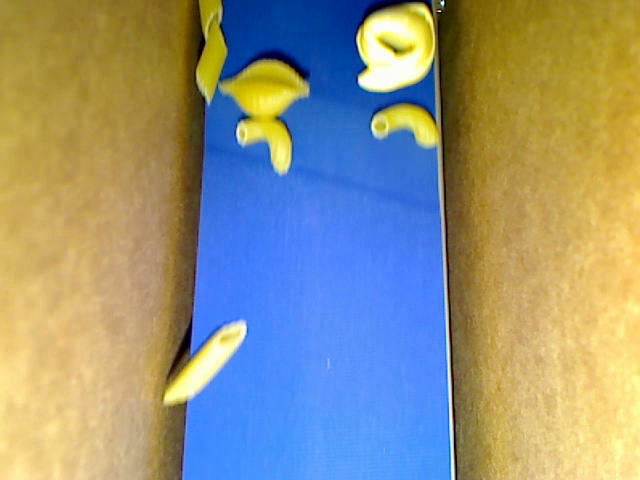elbow: (236, 117, 292, 175), (370, 103, 439, 148)
penne: (161, 318, 247, 406), (193, 18, 229, 106), (197, 1, 222, 42)
shell: (217, 59, 310, 118)
tortellini: (357, 2, 436, 93)
